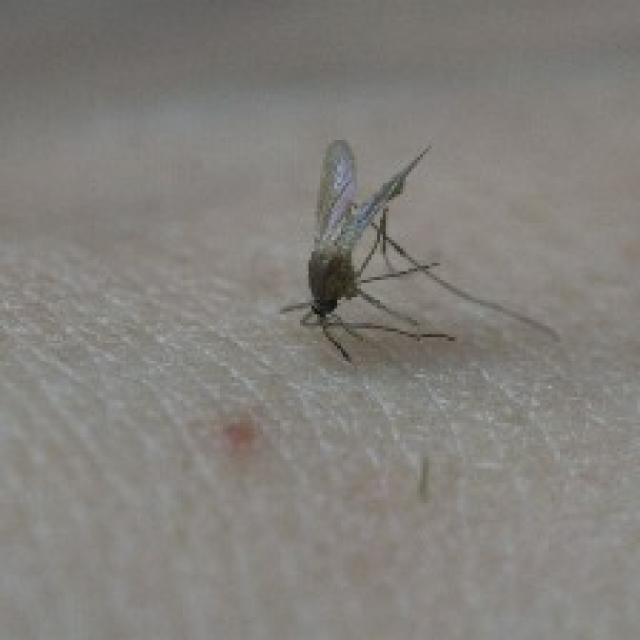culex: (277, 134, 560, 363)
